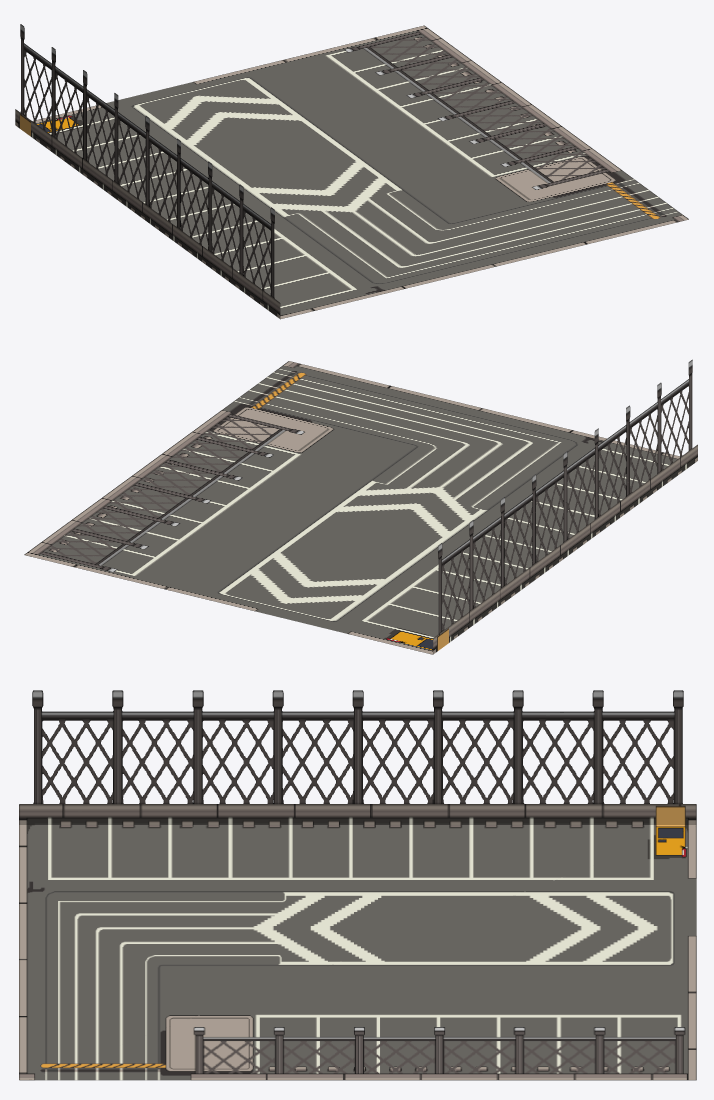
File: ParkingSpot1.fbx
The picture shows the model from 3 angles, top to bottom: view 1: azimuth 30°, elevation 25°; view 2: azimuth 150°, elevation 25°; view 3: azimuth 270°, elevation 25°; orthographic projection. The views are drawn at different scales.
Visible parts, largest first — view 1: park1; view 2: park1; view 3: park1.
Part boxes in pixels (<box>): park1: <box>15,24,688,319</box>; park1: <box>24,359,697,654</box>; park1: <box>19,690,696,1080</box>.
Bounding box in the file's own units: 2249 × 567 × 2501.
Materials: 1 (1 with a texture image).
